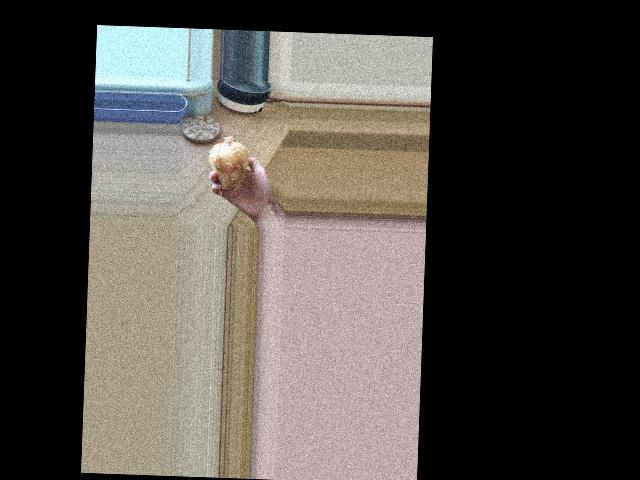onion: (206, 137, 250, 194)
